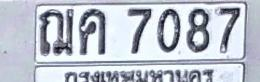0: (157, 7, 180, 52)
7: (127, 7, 152, 54), (218, 7, 240, 53)
8: (186, 7, 210, 52)
A04: (79, 8, 106, 55)
A12: (38, 8, 74, 56)
